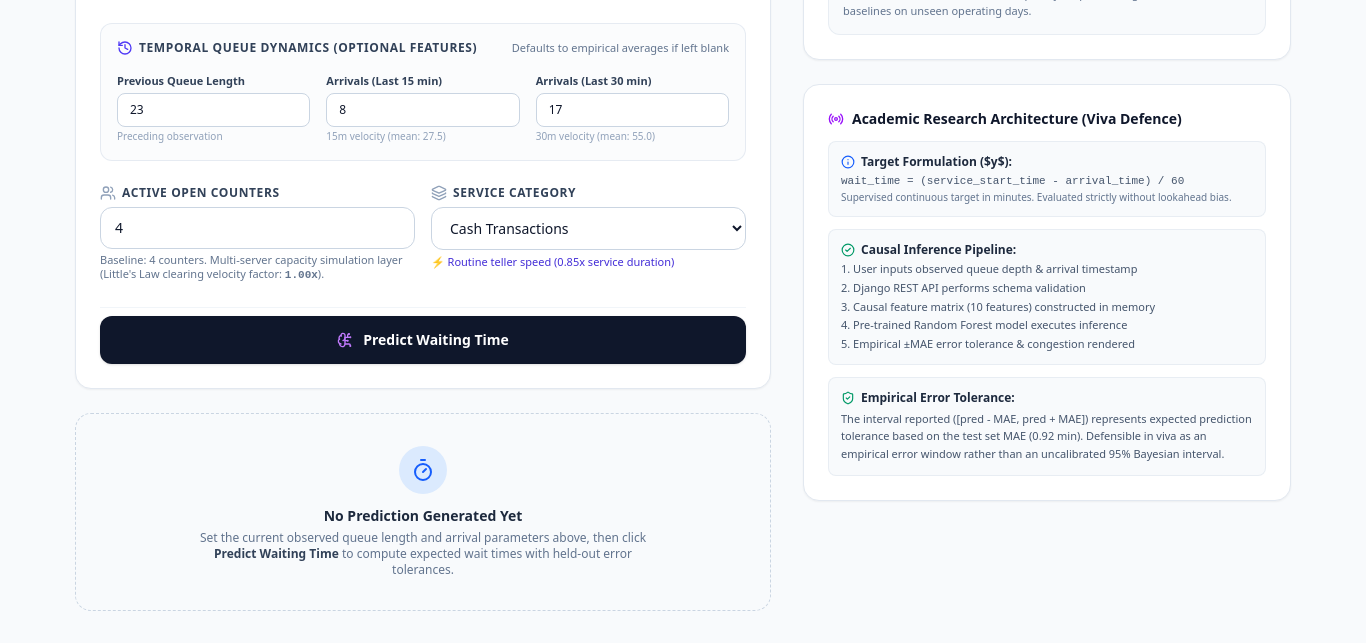
Test: Prediction Page Real-Time Integration & User Flow › 4. renders predicted waiting time prominently with human readable format
The width and height of the screenshot is (1366, 643).
(page scrolled)
Click the button "Predict Waiting Time".
click(423, 340)  # box left=100, top=316, right=746, bottom=364
(page scrolled)
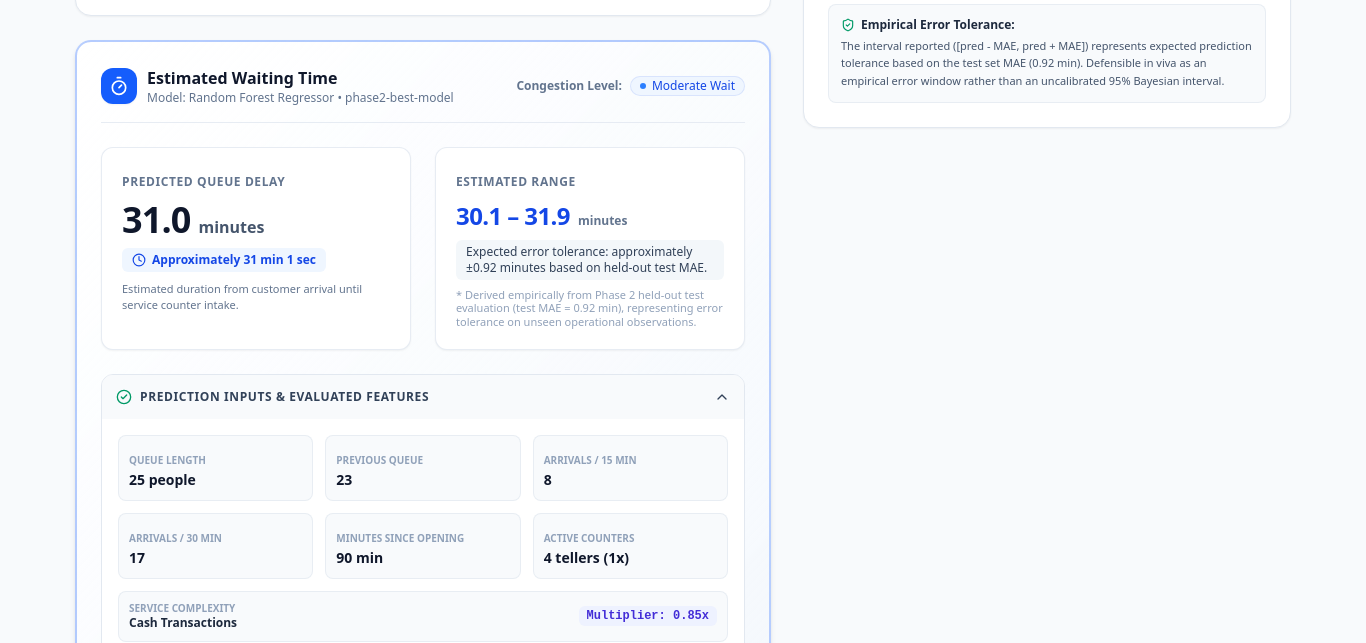
Now the heading "Estimated Waiting Time" is shown, box left=147, top=66, right=337, bottom=88
Now the text "31.0" is shown, box left=122, top=200, right=190, bottom=240
Now the text "Approximately 31 min 1 sec" is shown, box left=122, top=248, right=326, bottom=272
